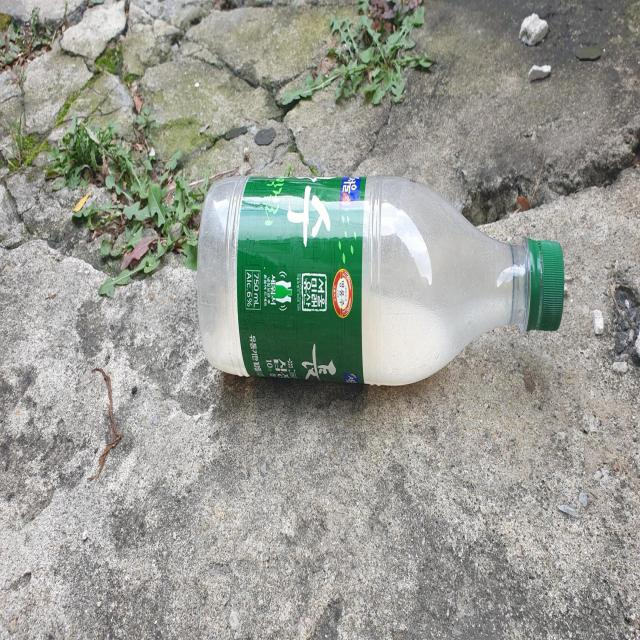plastic: (197, 175, 565, 384)
